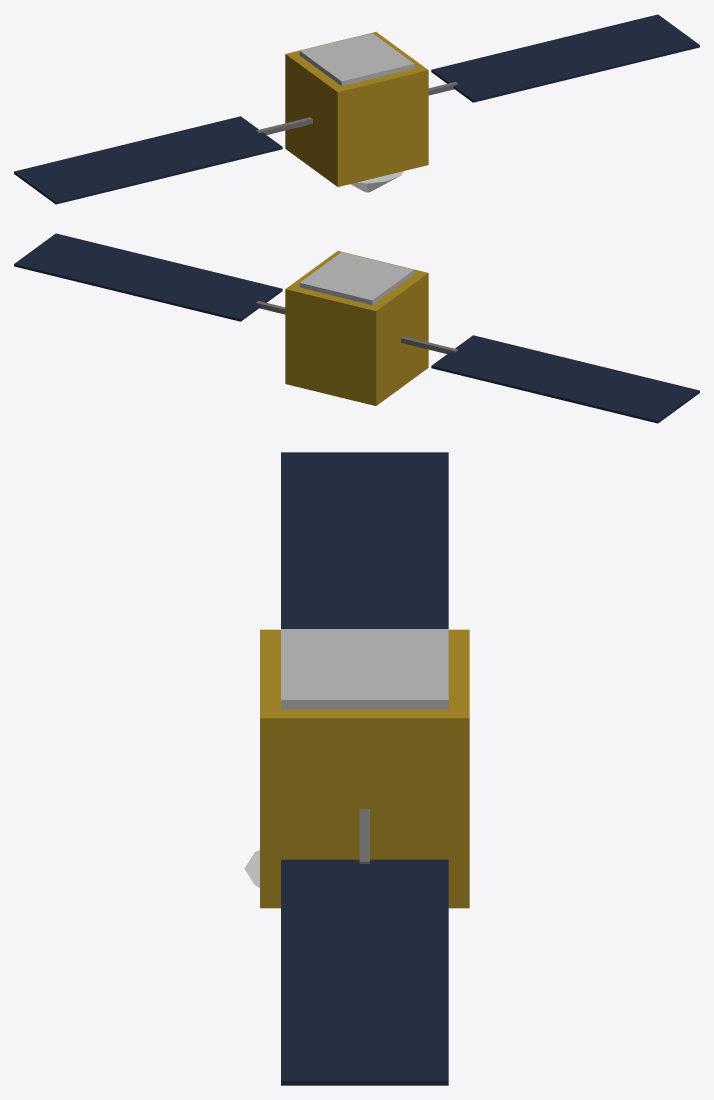
The model's file is satellite.glb.
3 views of the same model, one above another, from view 1: azimuth 30°, elevation 25°; view 2: azimuth 150°, elevation 25°; view 3: azimuth 270°, elevation 25° (orthographic). The views are drawn at different scales.
Parts seen in each view (by area): view 1: satellite; view 2: satellite; view 3: satellite.
Part boxes in pixels (bbox=[...]): satellite: bbox=[14, 14, 699, 204]; satellite: bbox=[14, 233, 699, 423]; satellite: bbox=[244, 452, 469, 1085].
Size of the model in its own units: 14.2 by 2.65 by 2.15.
